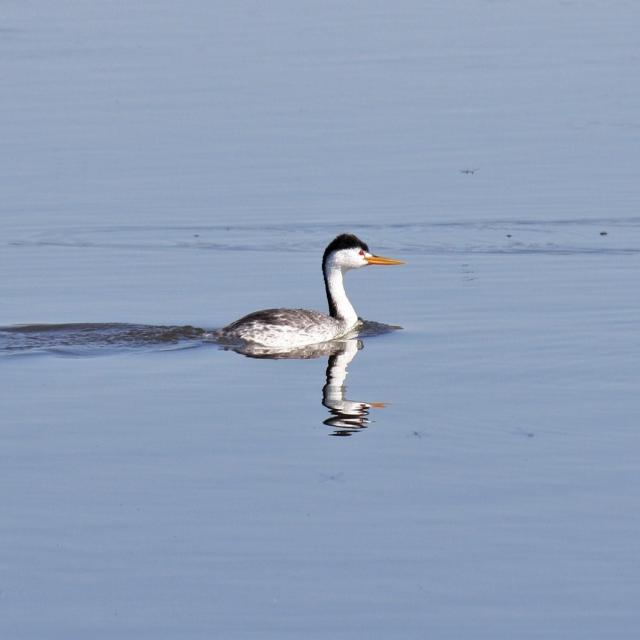bird: (212, 234, 407, 348)
